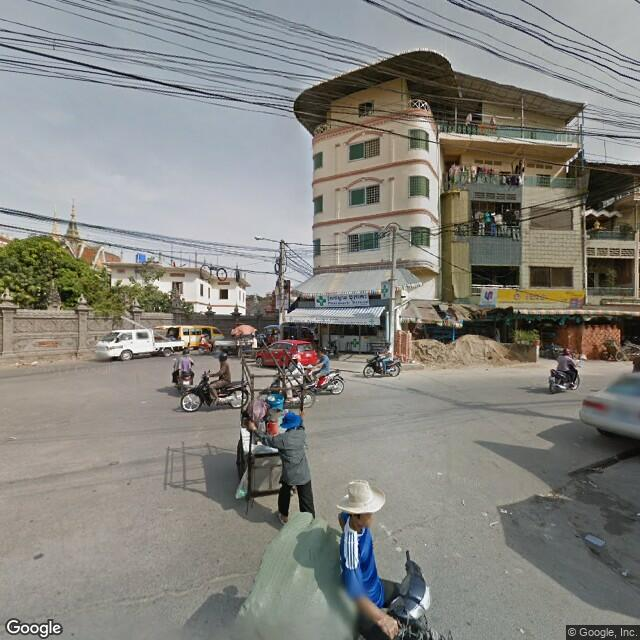litter: (580, 523, 608, 554), (493, 501, 513, 519)
